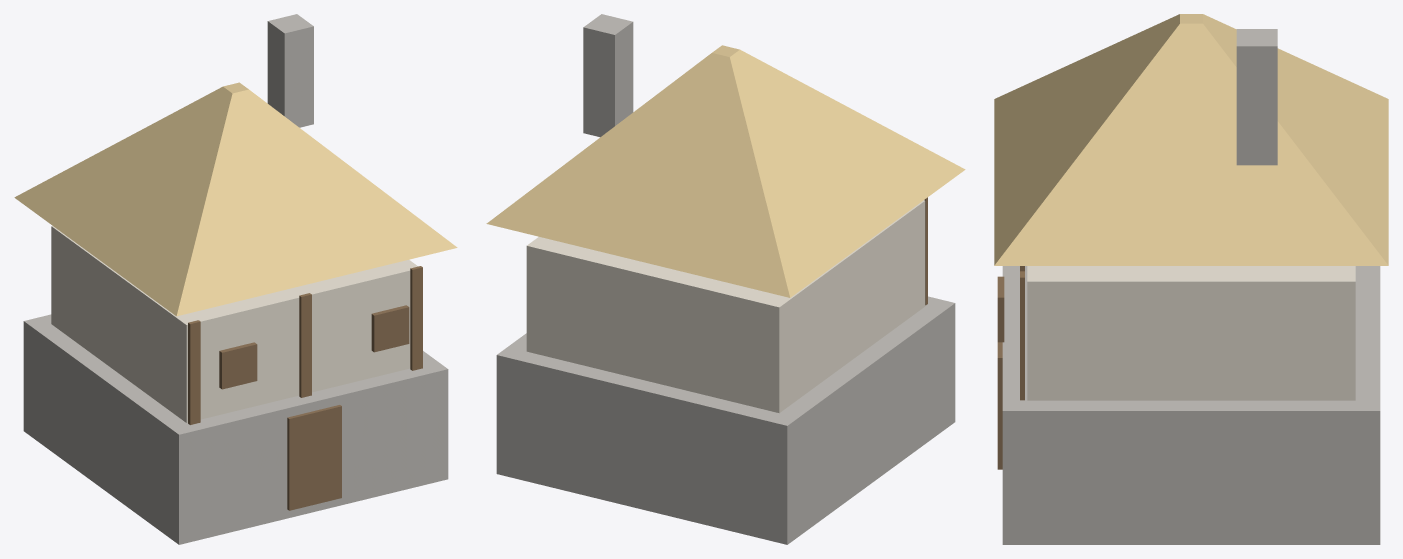
Rendered from TownHall.fbx.
The picture shows the model from 3 angles, left to right: view 1: azimuth 30°, elevation 25°; view 2: azimuth 150°, elevation 25°; view 3: azimuth 270°, elevation 25°; orthographic projection. The views are drawn at different scales.
Parts seen in each view (by area): view 1: Roof, Base, Upper, Door, Chimney, Win, Win.001, BeamF.001, BeamF.002, BeamF; view 2: Roof, Base, Upper, Chimney; view 3: Roof, Base, Upper, Chimney, Door, BeamF.002, Win.001.
Part boxes in pixels (<box>): Roof: <box>14,82,457,316</box>; Base: <box>23,314,448,544</box>; Upper: <box>51,226,417,422</box>; Door: <box>287,405,341,510</box>; Chimney: <box>267,14,313,127</box>; Win: <box>219,342,257,389</box>; Win.001: <box>371,305,409,352</box>; BeamF.001: <box>299,293,311,397</box>; BeamF.002: <box>410,266,422,370</box>; BeamF: <box>188,320,200,424</box>; Roof: <box>486,45,965,297</box>; Base: <box>496,296,955,544</box>; Upper: <box>526,200,925,413</box>; Chimney: <box>583,14,633,137</box>; Roof: <box>994,14,1388,265</box>; Base: <box>1002,266,1380,544</box>; Upper: <box>1027,266,1355,400</box>; Chimney: <box>1236,29,1277,165</box>; Door: <box>997,342,1002,469</box>; BeamF.002: <box>1020,271,1024,400</box>; Win.001: <box>997,276,1004,342</box>.
Bounding box in the file's own units: 481 × 640 × 481.
